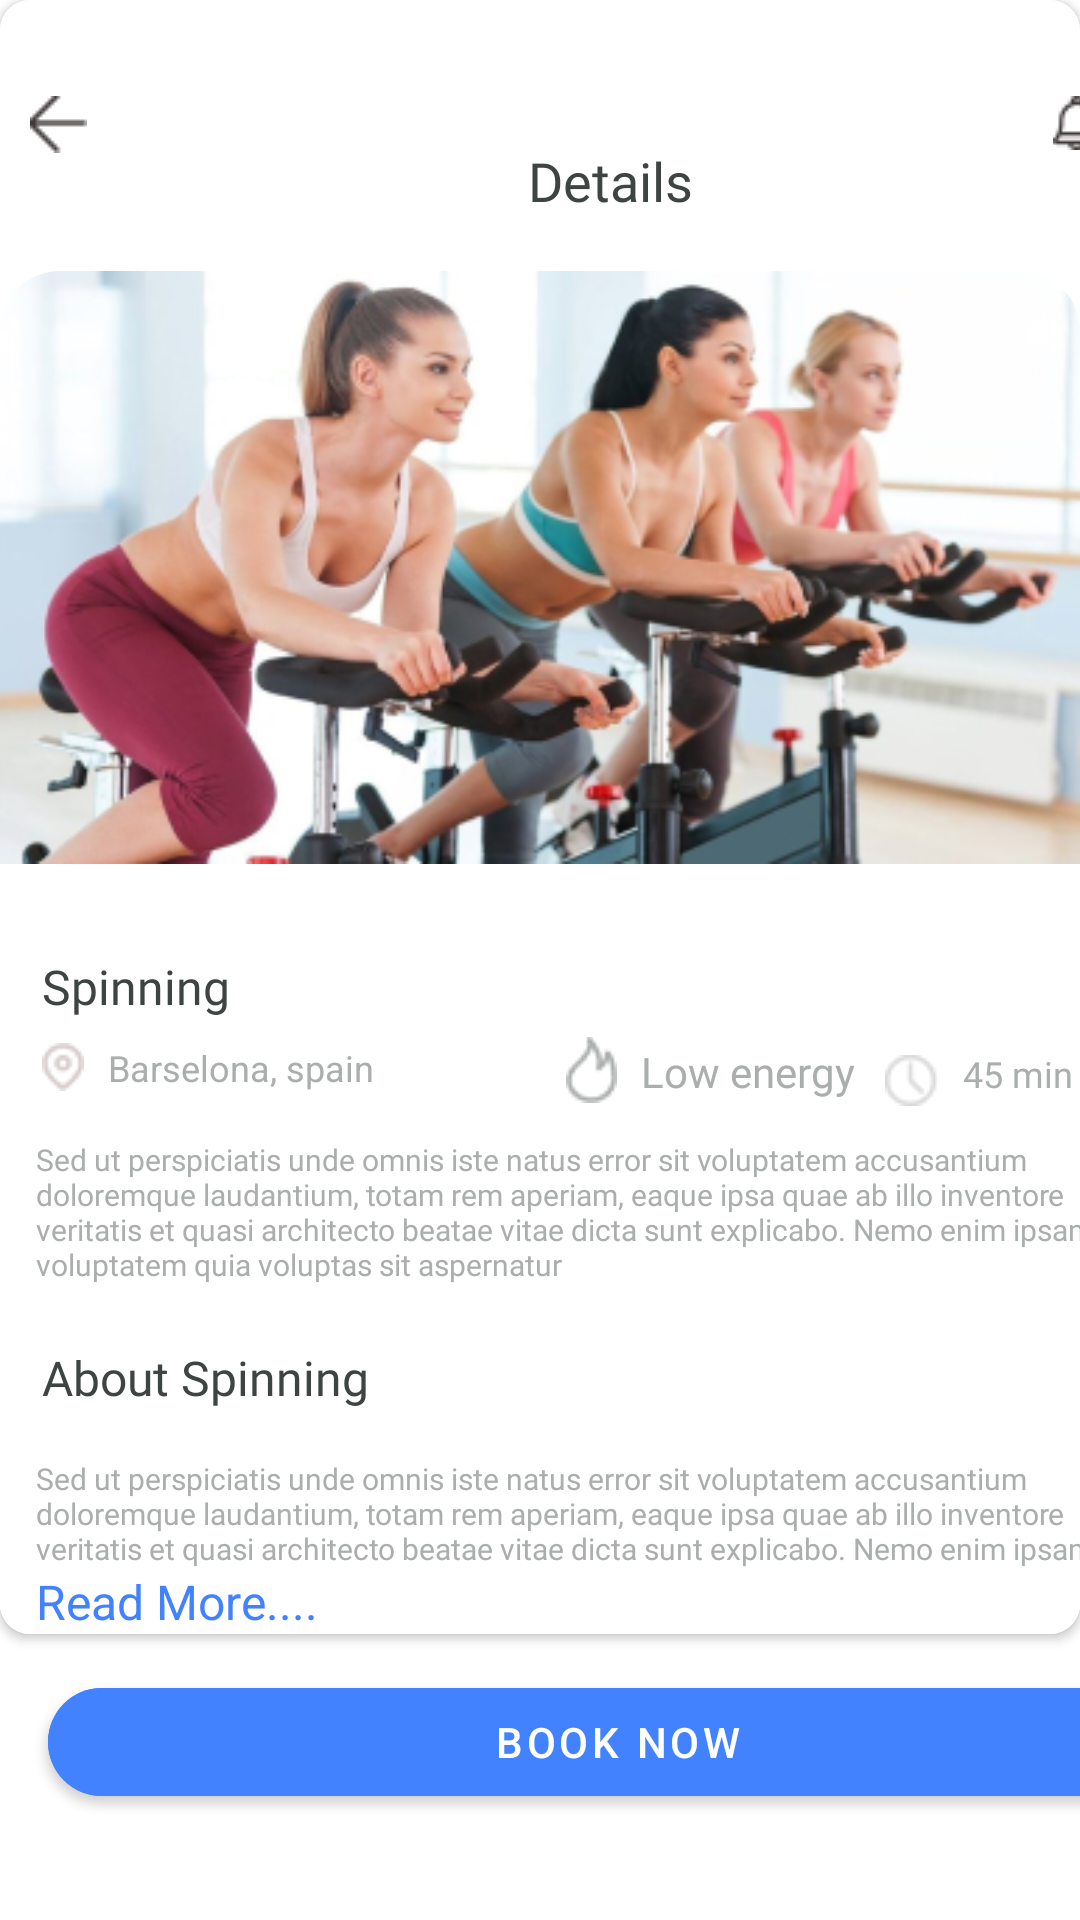

Named icons in this screenshot (1080×1920) and their bounding boxes, (x1, y1, x2, y2):
back: (30, 96, 87, 153)
location: (42, 1043, 84, 1091)
time: (885, 1055, 936, 1106)
